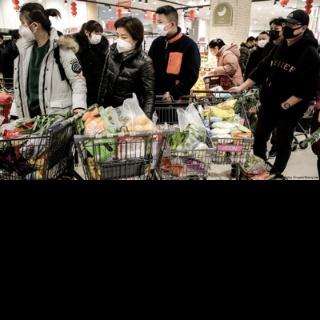with_mask: (116, 31, 136, 53), (283, 20, 303, 40), (19, 19, 37, 41), (156, 17, 172, 36), (268, 24, 283, 39), (88, 30, 101, 44), (258, 36, 269, 48), (209, 48, 218, 56), (248, 42, 255, 49)
